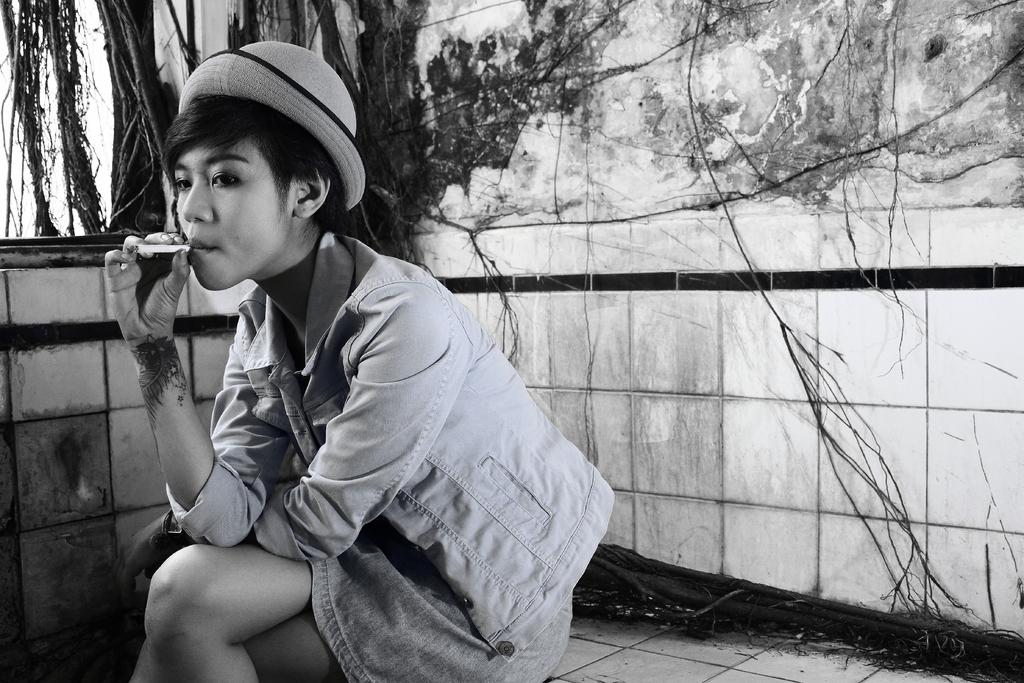Hat: (177, 36, 368, 213)
